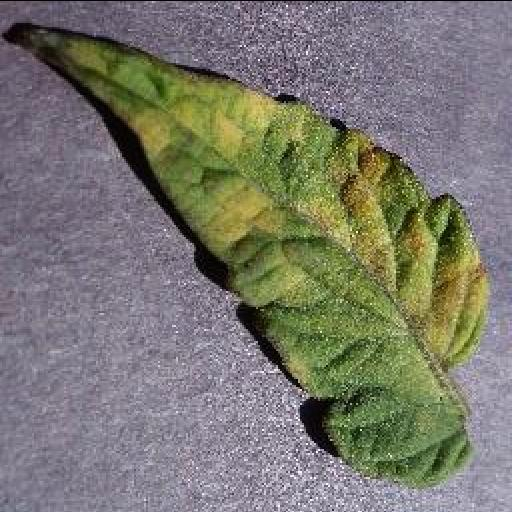disease_tomato: (1, 24, 491, 489)
